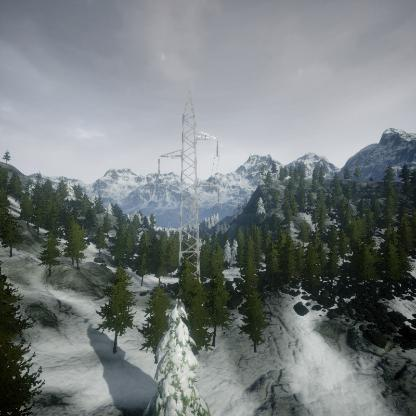tower: (155, 84, 220, 266)
